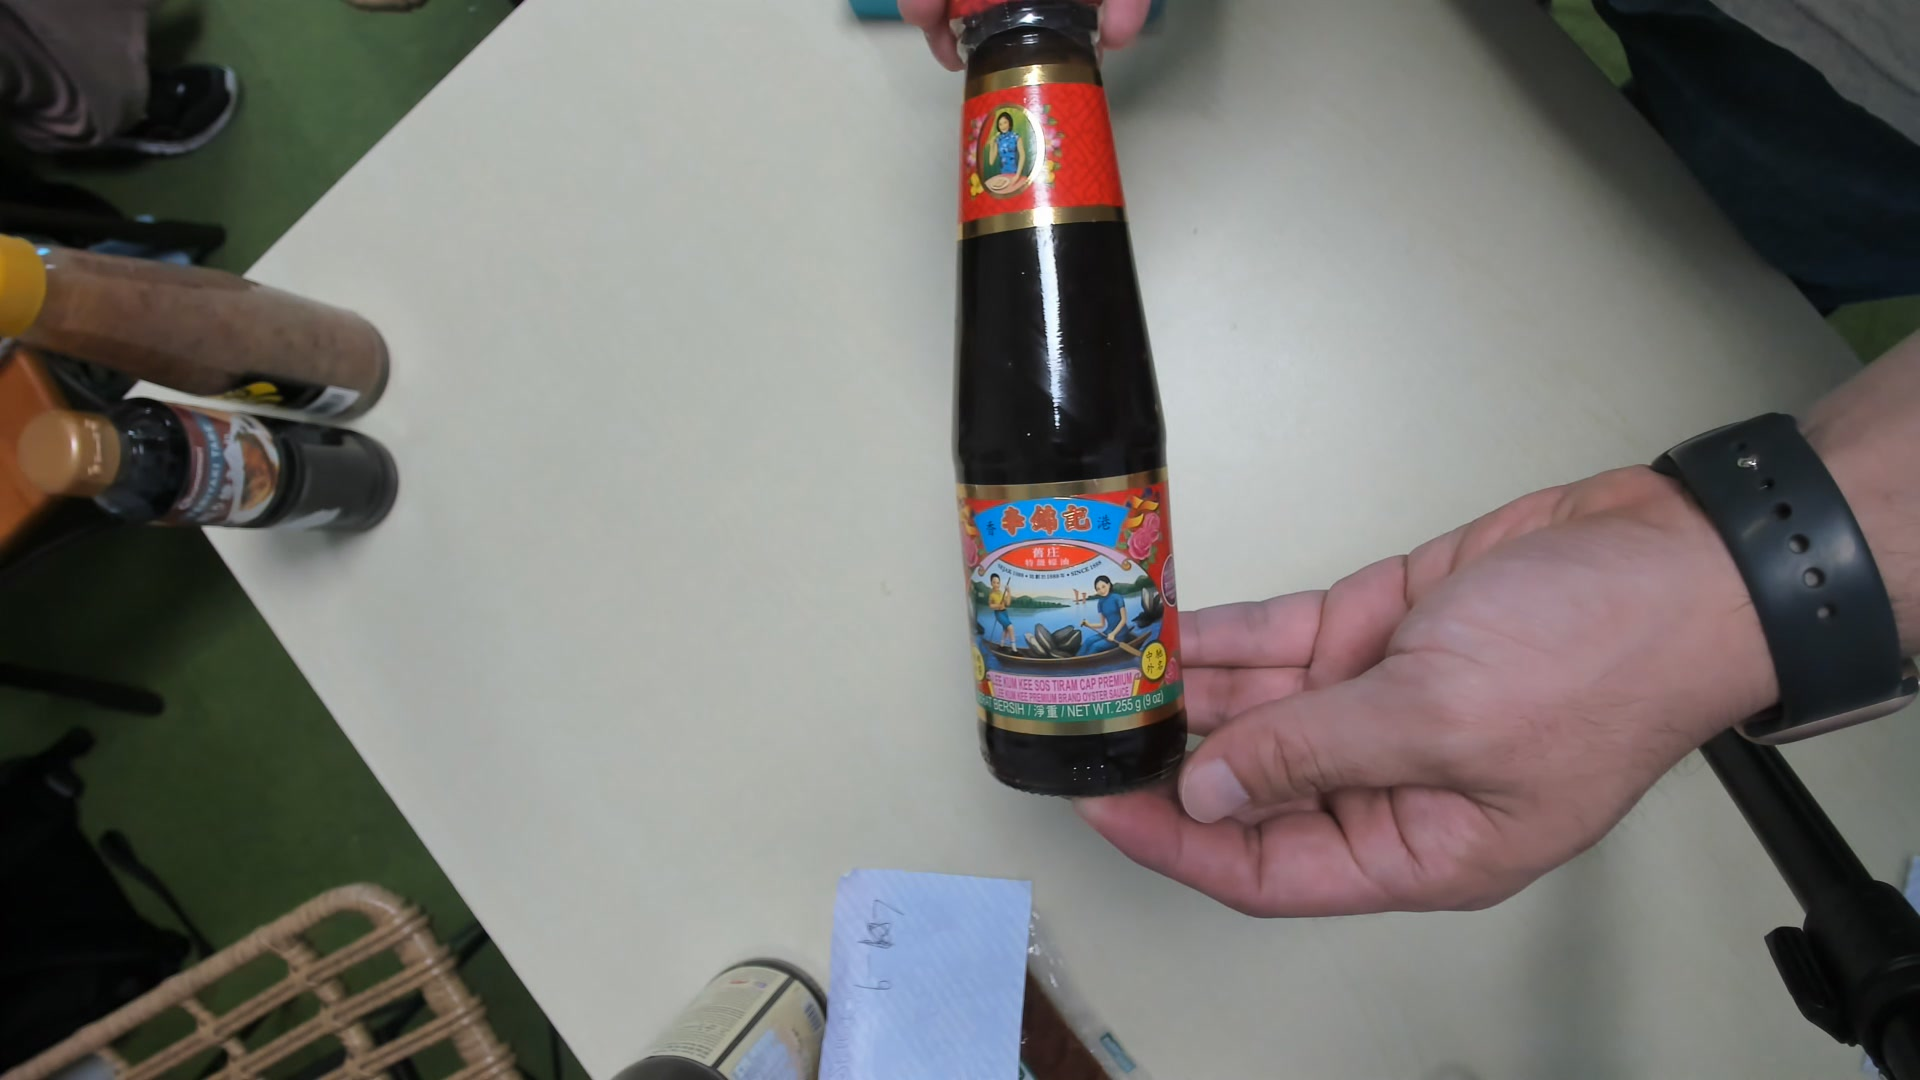OtherSauceDressingSoupbasePaste_200-299g_Halal_NonHealthy: (947, 9, 1189, 794)
